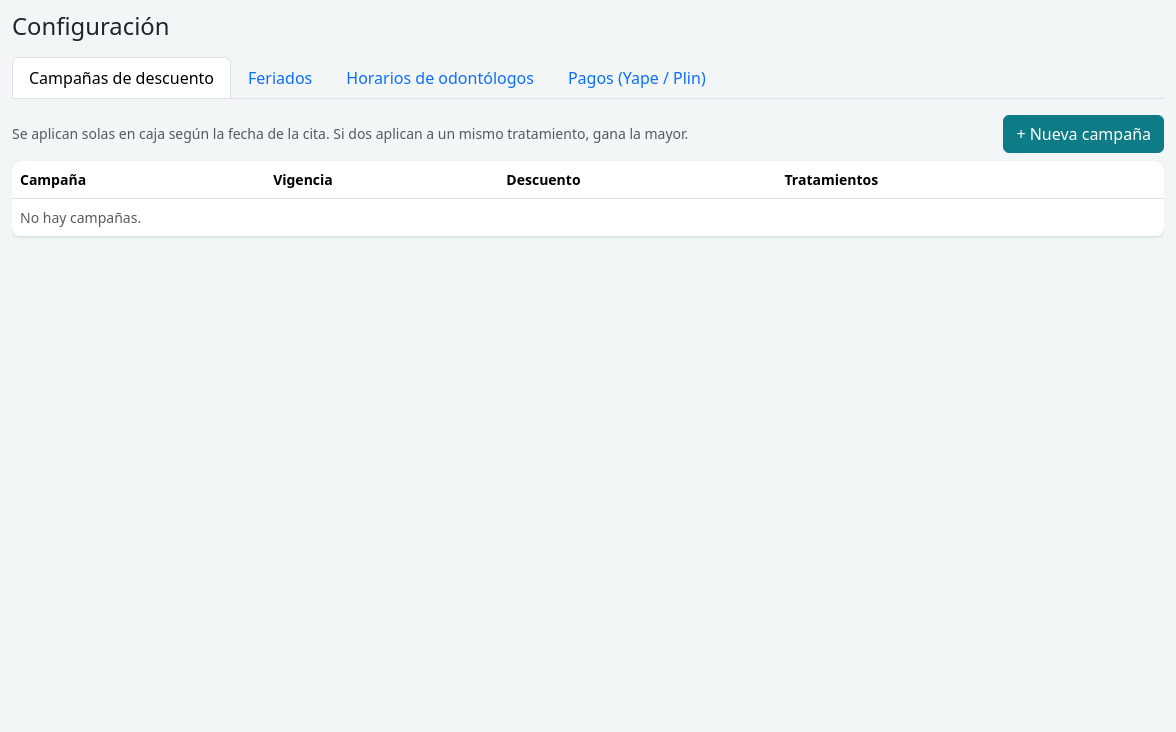
Horarios en pantalla › «+ Tramo» agrega 15:00–20:00 tras 08:00–14:00; un cruce se avisa y no deja guardar
Click the button "Horarios de odontólogos" at (440, 78), box [329, 57, 551, 99]
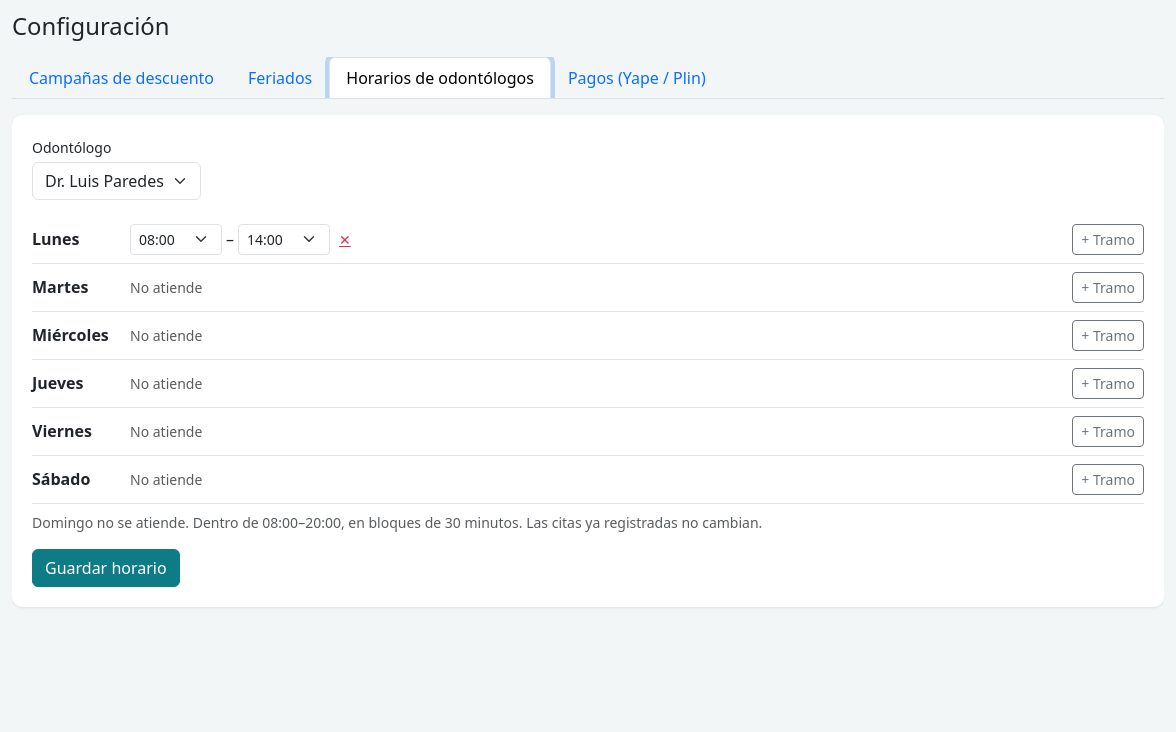
Check: the dropdown named "Lunes desde" is shown, box [130, 224, 222, 255]
Click the button "+ Tramo" in the row of "Lunes" at (1108, 239), box [1072, 224, 1144, 255]
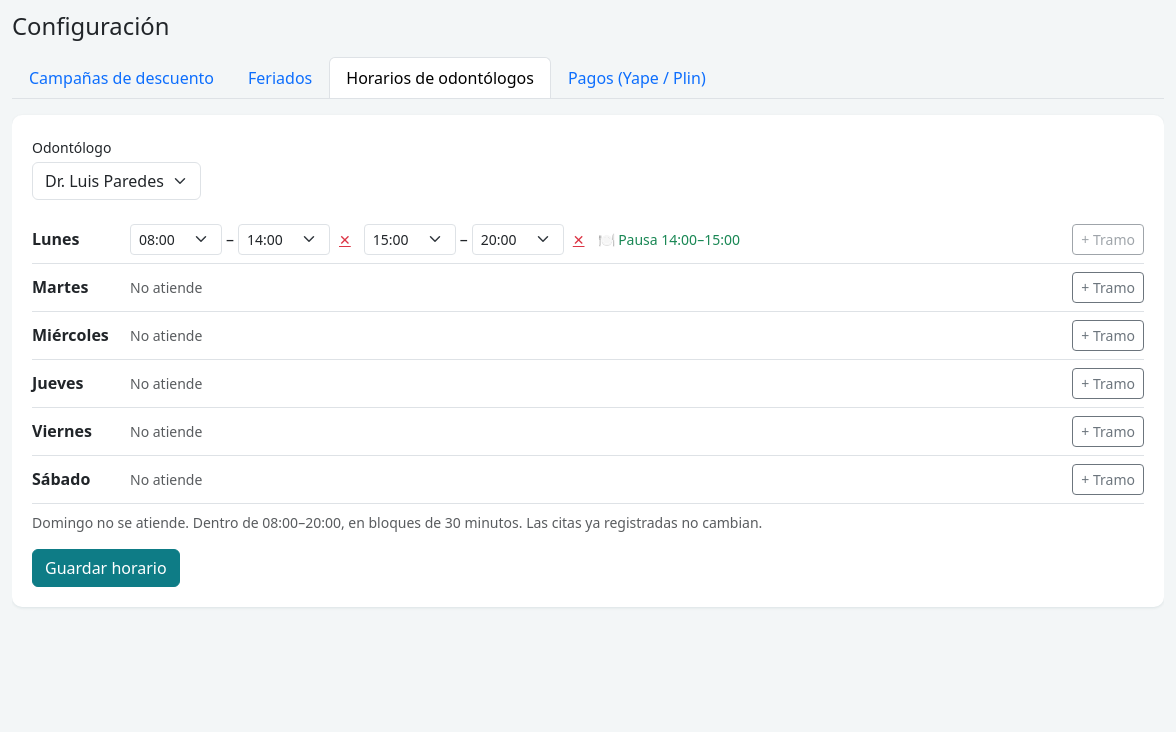
Check: the 2nd dropdown named "Lunes desde" shows "15:00"
Check: the 2nd dropdown named "Lunes hasta" shows "20:00", box [472, 224, 564, 255]
Check: the text "🍽 Pausa 14:00–15:00" is shown, box [598, 229, 740, 250]
Select "13:00" in the 2nd dropdown named "Lunes desde" at (410, 239), box [364, 224, 456, 255]
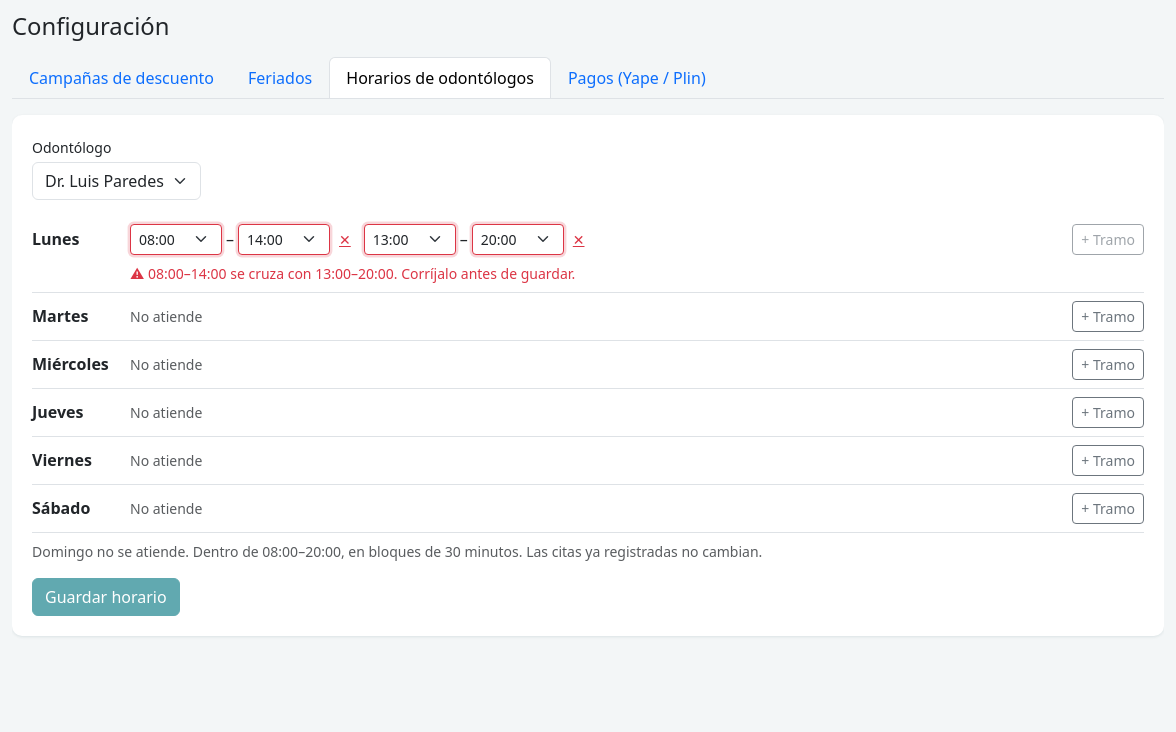
Check: the message shows "se cruza con", box [148, 264, 394, 283]
Check: the button "Guardar horario" is disabled, box [32, 578, 180, 616]
